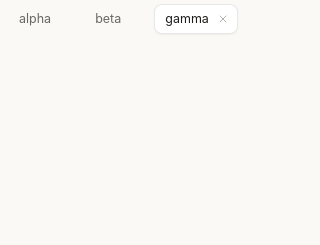
TabBar context menu › closes the menu on Escape
Right-click the tab "beta" at (108,19), box [95,11,121,26]
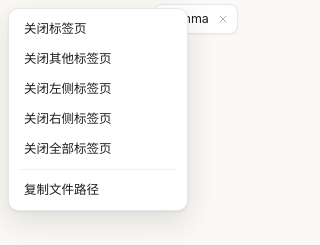
Check: the text "关闭全部标签页" is shown, box [24,141,112,156]
Press Escape
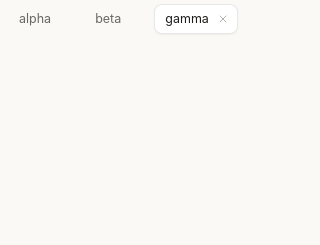
Check: the menu item "关闭全部标签页" is gone
